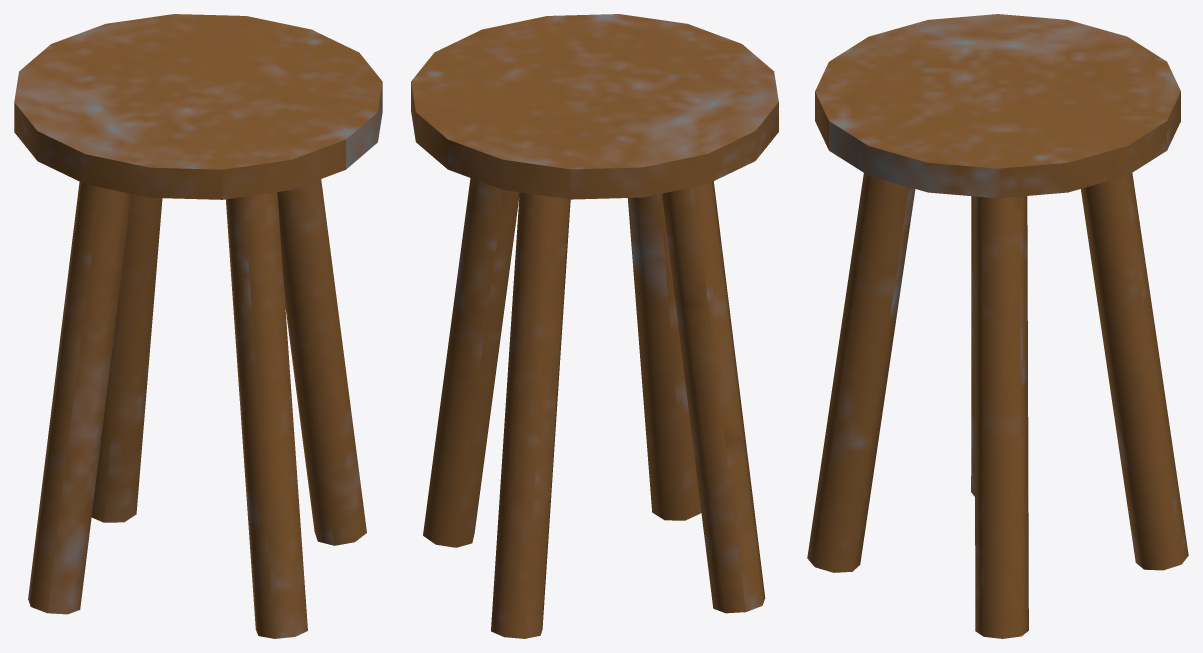
Rendered from SM_stool_01.fbx.
The picture shows the model from 3 angles, left to right: view 1: azimuth 30°, elevation 25°; view 2: azimuth 150°, elevation 25°; view 3: azimuth 270°, elevation 25°; orthographic projection.
Parts seen in each view (by area): view 1: SM_stool_01; view 2: SM_stool_01; view 3: SM_stool_01.
Part boxes in pixels (<box>): SM_stool_01: <box>14,14,382,638</box>; SM_stool_01: <box>411,14,778,638</box>; SM_stool_01: <box>807,14,1188,638</box>.
Size of the model in its own units: 46.99 by 64.34 by 46.98.
